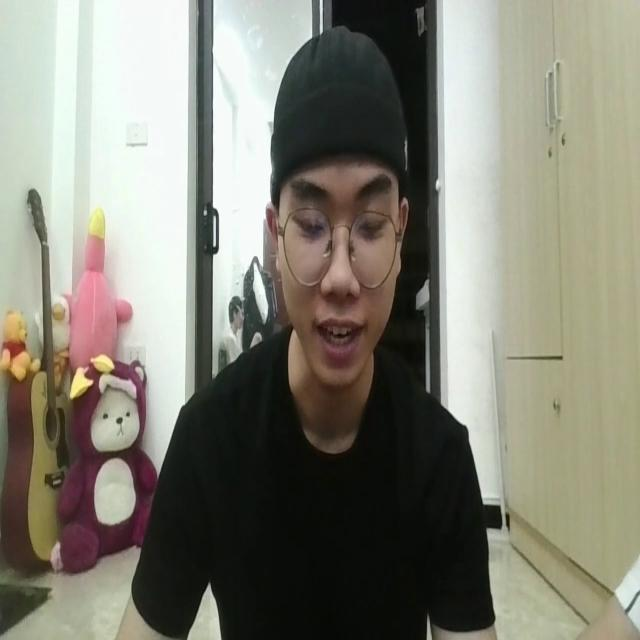student: (108, 28, 496, 640)
